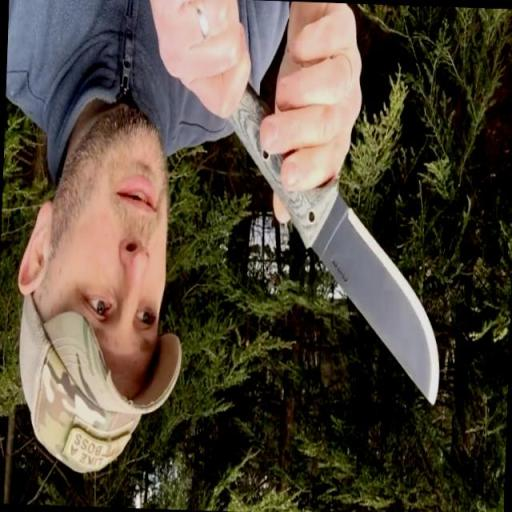knife: (264, 144, 451, 414)
